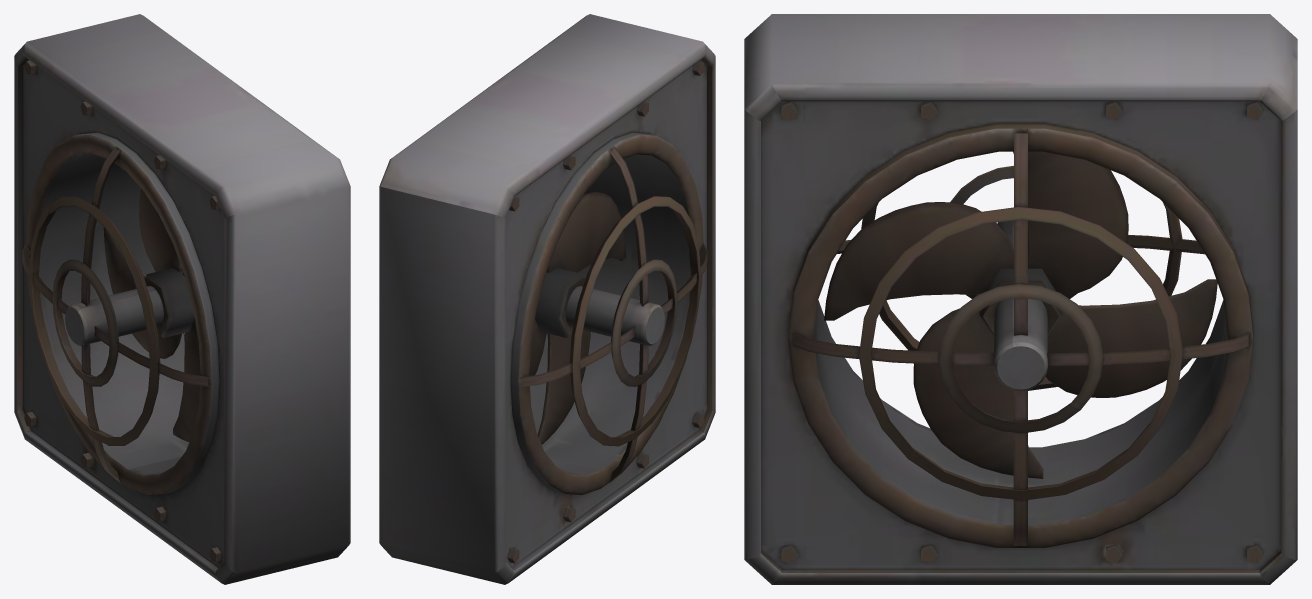
The picture shows the model from 3 angles, left to right: view 1: azimuth 30°, elevation 25°; view 2: azimuth 150°, elevation 25°; view 3: azimuth 270°, elevation 25°; orthographic projection. The views are drawn at different scales.
Parts seen in each view (by area): view 1: body0_model0_lod0_mesh0; view 2: body0_model0_lod0_mesh0; view 3: body0_model0_lod0_mesh0.
Part boxes in pixels (x1,y1,x2,y2): body0_model0_lod0_mesh0: (14,14,350,584); body0_model0_lod0_mesh0: (379,14,715,584); body0_model0_lod0_mesh0: (744,14,1297,584).
Bounding box in the file's own units: 55.28 × 96 × 96.
1 material, 1 textured.
